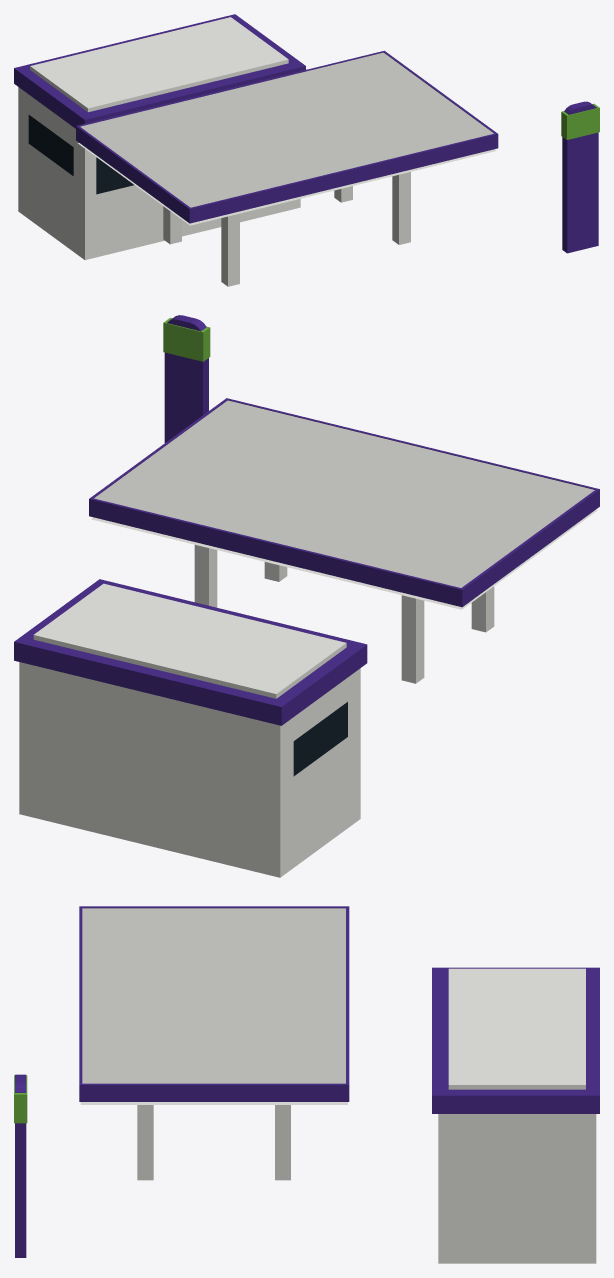
File: azs_tes.lod.glb
The picture shows the model from 3 angles, top to bottom: view 1: azimuth 30°, elevation 25°; view 2: azimuth 150°, elevation 25°; view 3: azimuth 270°, elevation 25°; orthographic projection. The views are drawn at different scales.
Parts seen in each view (by area): view 1: azs_tes_canopy, azs_tes_shop_wall, azs_tes_brand, azs_tes_shop_band, azs_tes_stela, azs_tes_clad, azs_tes_shop_glass, azs_tes_soffit, azs_tes_stela2; view 2: azs_tes_shop_wall, azs_tes_canopy, azs_tes_brand, azs_tes_shop_band, azs_tes_clad, azs_tes_stela, azs_tes_shop_glass, azs_tes_soffit, azs_tes_stela2; view 3: azs_tes_canopy, azs_tes_shop_wall, azs_tes_shop_band, azs_tes_brand, azs_tes_clad, azs_tes_stela, azs_tes_soffit, azs_tes_stela2.
Part boxes in pixels (x1,y1,x2,y2): azs_tes_canopy: [80, 52, 493, 207]; azs_tes_shop_wall: [18, 17, 300, 259]; azs_tes_brand: [76, 50, 498, 223]; azs_tes_shop_band: [14, 14, 305, 128]; azs_tes_stela: [562, 101, 598, 253]; azs_tes_clad: [163, 172, 410, 286]; azs_tes_shop_glass: [28, 115, 133, 194]; azs_tes_soffit: [78, 143, 496, 225]; azs_tes_stela2: [561, 103, 599, 139]; azs_tes_shop_wall: [19, 583, 360, 877]; azs_tes_canopy: [94, 400, 594, 587]; azs_tes_brand: [89, 398, 599, 607]; azs_tes_shop_band: [14, 579, 367, 725]; azs_tes_clad: [194, 545, 494, 683]; azs_tes_stela: [164, 315, 208, 442]; azs_tes_shop_glass: [293, 702, 347, 776]; azs_tes_soffit: [91, 509, 597, 609]; azs_tes_stela2: [163, 317, 210, 361]; azs_tes_canopy: [82, 908, 345, 1083]; azs_tes_shop_wall: [438, 968, 596, 1263]; azs_tes_shop_band: [432, 967, 599, 1113]; azs_tes_brand: [79, 906, 349, 1101]; azs_tes_clad: [137, 1105, 290, 1180]; azs_tes_stela: [15, 1074, 26, 1257]; azs_tes_soffit: [80, 1102, 347, 1104]; azs_tes_stela2: [14, 1075, 27, 1123].
Size of the model in its own units: 20.59 by 10.6 by 23.01.
